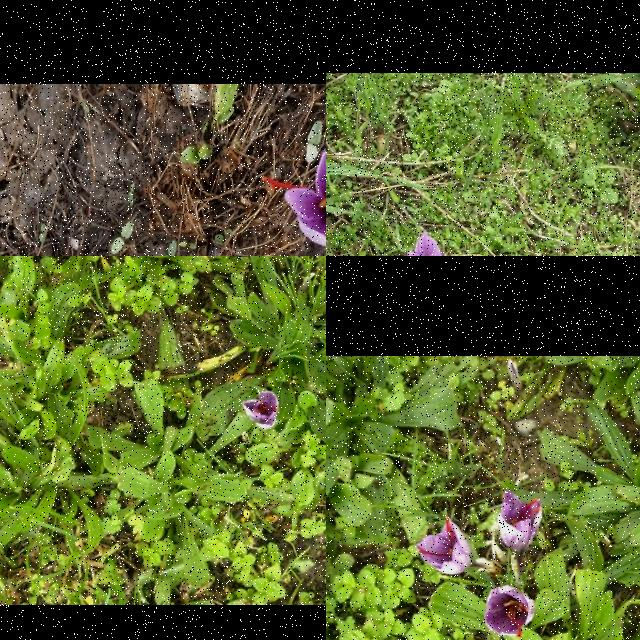flower: (261, 149, 326, 252), (414, 517, 472, 577), (483, 584, 537, 640), (497, 491, 543, 553), (393, 229, 454, 256), (242, 390, 278, 430)
